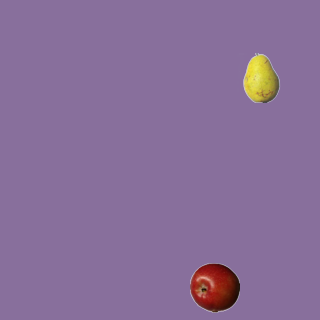Apple Braeburn: (189, 262, 239, 312)
Pear Monster: (236, 52, 286, 102)
